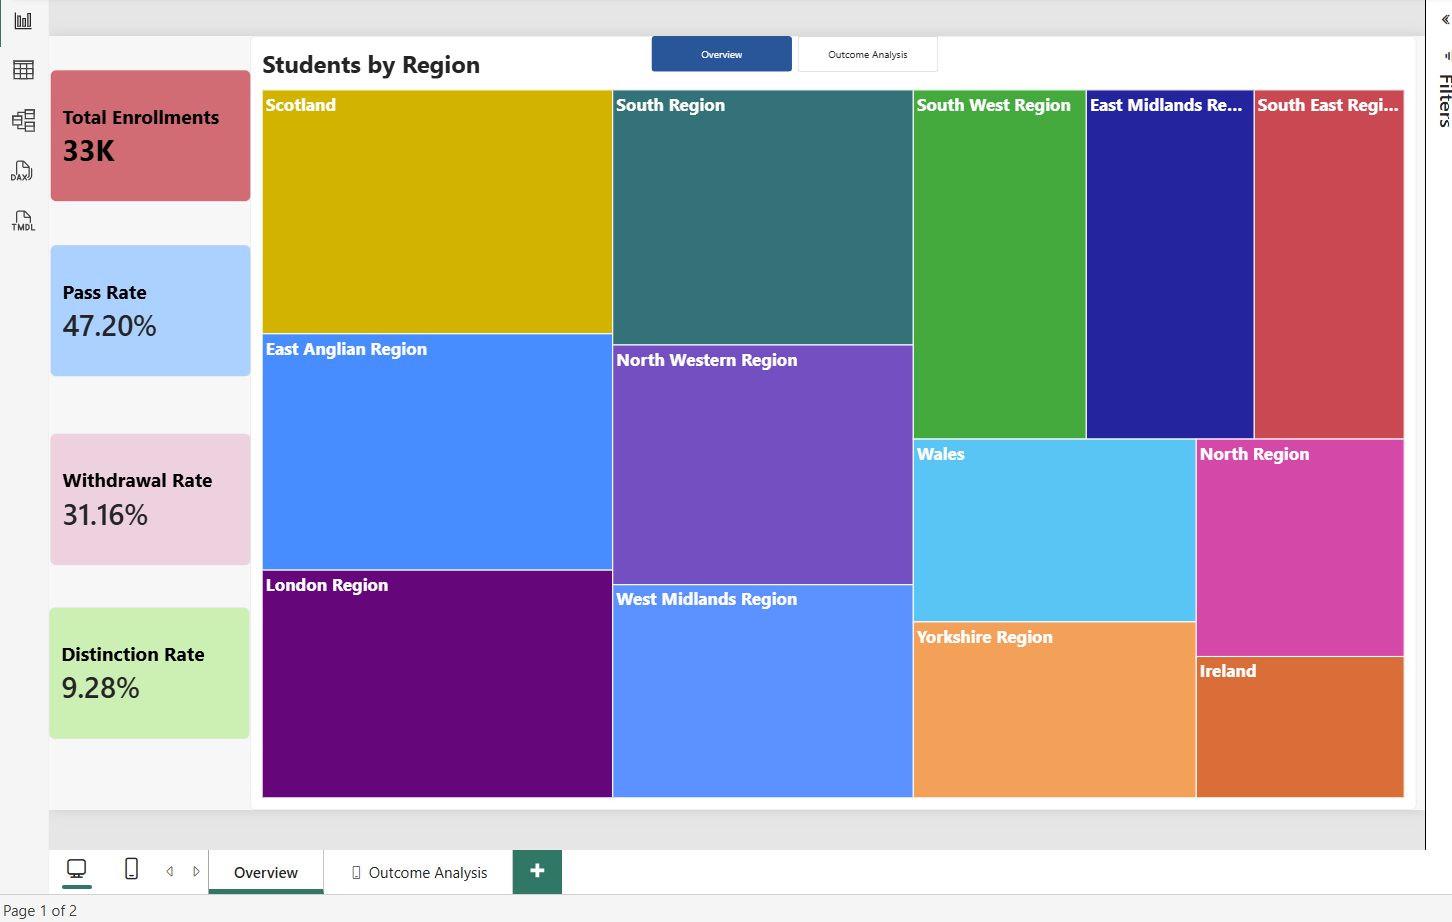

What the dashboard file says about the page in this screenshot:
{"tool":"powerbi","page":{"name":"Overview ","canvas":[1920,1080],"ordinal":0},"visuals":[{"type":"treemap","title":"Students by Region","fields":{"Group":["studentInfo.region"],"Values":["studentInfo.Total Students"]},"box":[280.8,0,1627.3,1079.7],"z":0},{"type":"cardVisual","fields":{"Data":["studentInfo.Total Students"]},"box":[1.7,47.1,280.8,184.9],"z":1000},{"type":"cardVisual","fields":{"Data":["studentInfo.Pass Rate"]},"box":[1.7,291.3,280.8,184],"z":2000},{"type":"cardVisual","fields":{"Data":["studentInfo.Withdrawal Rate"]},"box":[1.7,554.7,280.8,184.9],"z":3000},{"type":"cardVisual","fields":{"Data":["studentInfo.Distinction Rate"]},"box":[0,797.1,280.8,184],"z":4000},{"type":"pageNavigator","box":[840.7,0,400,50],"z":4001}]}

Visuals, with their boxes on the page's 1920x1080 design canvas (x1, y1, x2, y2). These are canvas units, not pixel positions in the 1452x922 screenshot, which may show the page scaled, cropped or inside an application window:
"Students by Region" treemap: locate(281, 0, 1908, 1080)
cardVisual - studentInfo.Total Students: locate(2, 47, 282, 232)
cardVisual - studentInfo.Pass Rate: locate(2, 291, 282, 475)
cardVisual - studentInfo.Withdrawal Rate: locate(2, 555, 282, 740)
cardVisual - studentInfo.Distinction Rate: locate(0, 797, 281, 981)
pageNavigator: locate(841, 0, 1241, 50)
